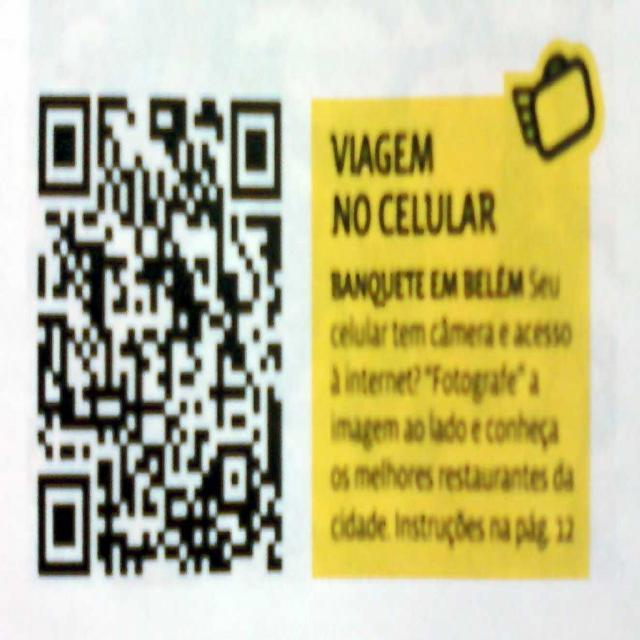qrcode: (39, 97, 284, 575)
